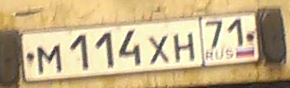character: (36, 42, 64, 74), (119, 28, 143, 65), (69, 32, 90, 70), (95, 30, 116, 68), (173, 31, 196, 62), (148, 34, 169, 64), (227, 15, 245, 46), (205, 19, 223, 47)
